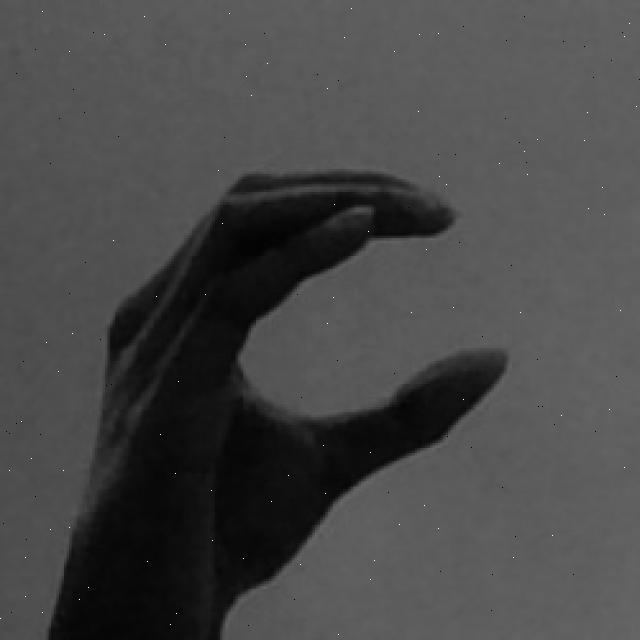C: (49, 164, 512, 640)
